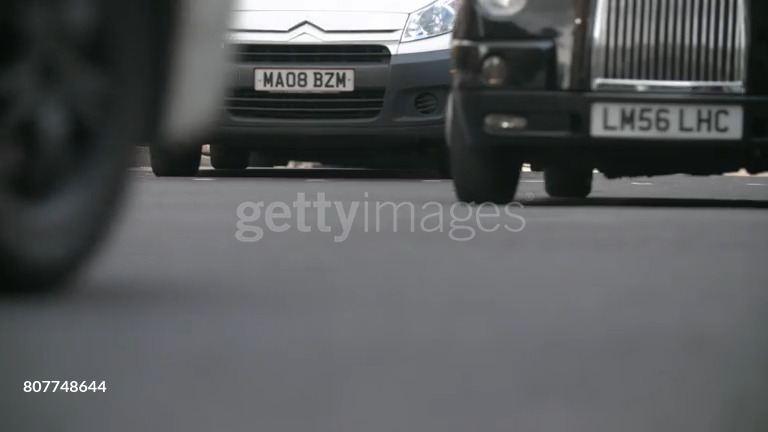car number: (588, 102, 743, 138), (252, 66, 352, 91)
